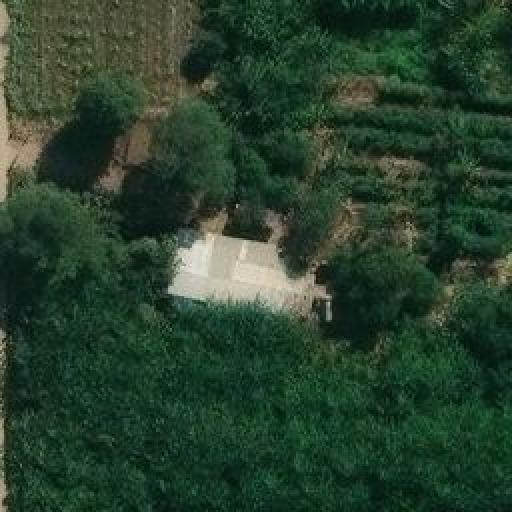manzanas: (147, 219, 345, 332)
